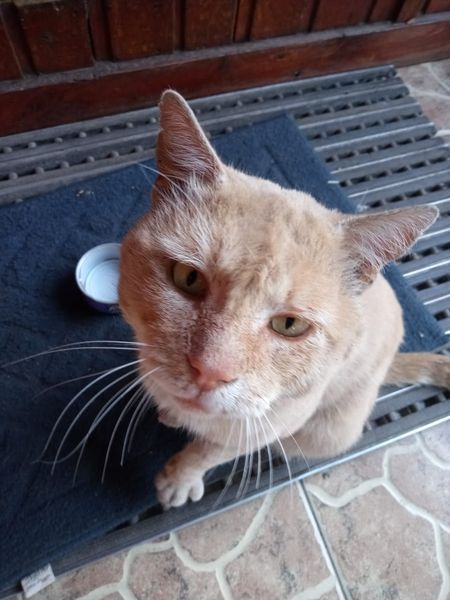cat: (88, 63, 439, 533)
